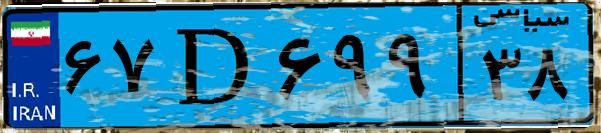3: (475, 38, 525, 113)
6: (270, 28, 330, 110), (57, 26, 110, 100)
7: (110, 28, 158, 98)
8: (525, 38, 570, 115)
9: (385, 28, 445, 110), (330, 28, 385, 110)
D: (158, 12, 270, 120)
